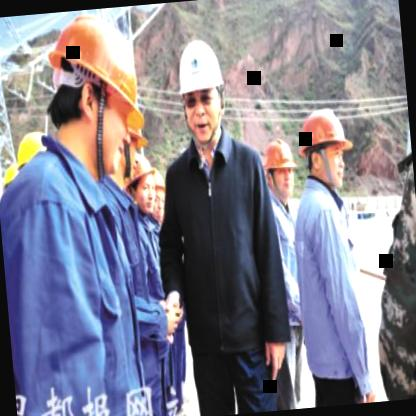helmet: (34, 6, 151, 174), (171, 30, 235, 154), (292, 102, 356, 194), (263, 138, 298, 200), (126, 153, 159, 216), (144, 167, 172, 234)
